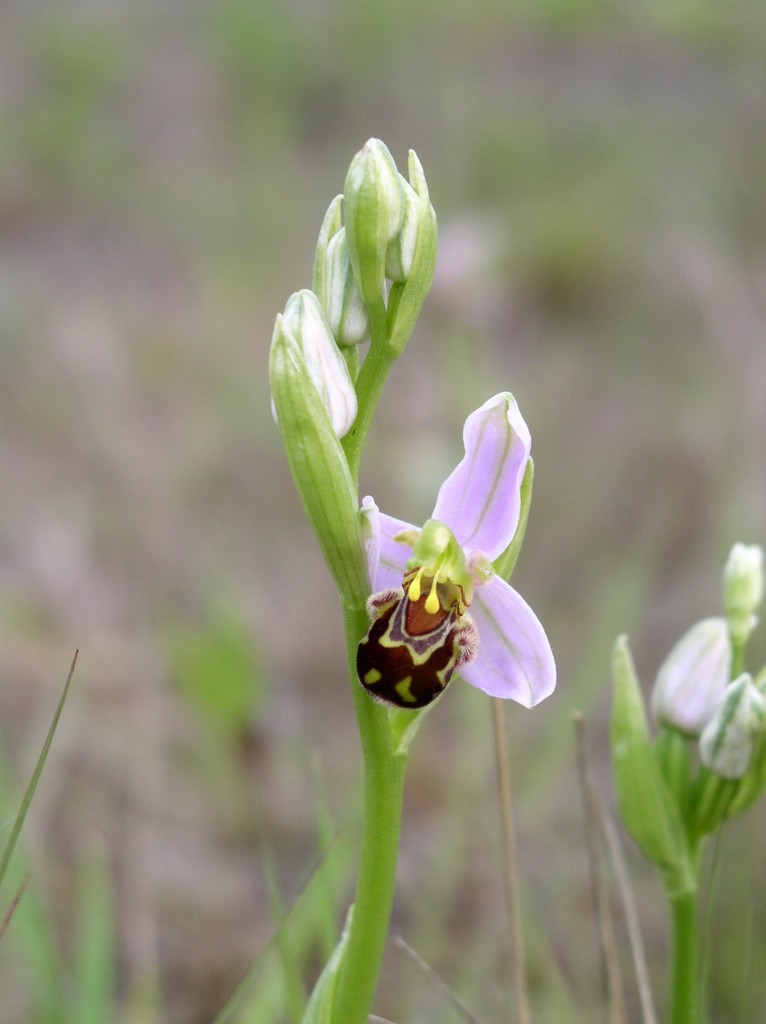person: (353, 387, 558, 712)
